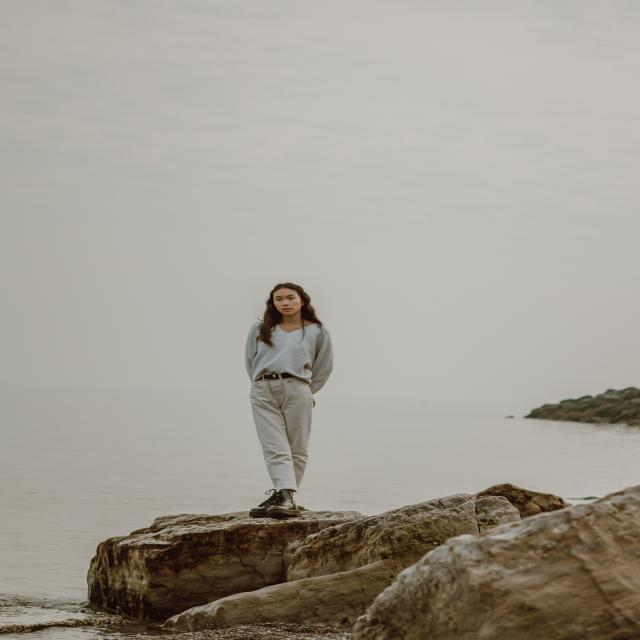standing: (243, 278, 347, 520)
